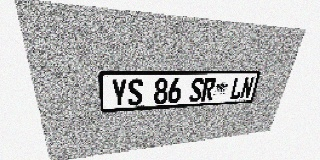6: (167, 78, 183, 103)
8: (154, 78, 169, 104)
L: (229, 77, 245, 99)
N: (239, 77, 255, 99)
R: (201, 78, 216, 101)
S: (128, 79, 143, 106), (189, 78, 204, 102)
Y: (111, 79, 127, 107)
